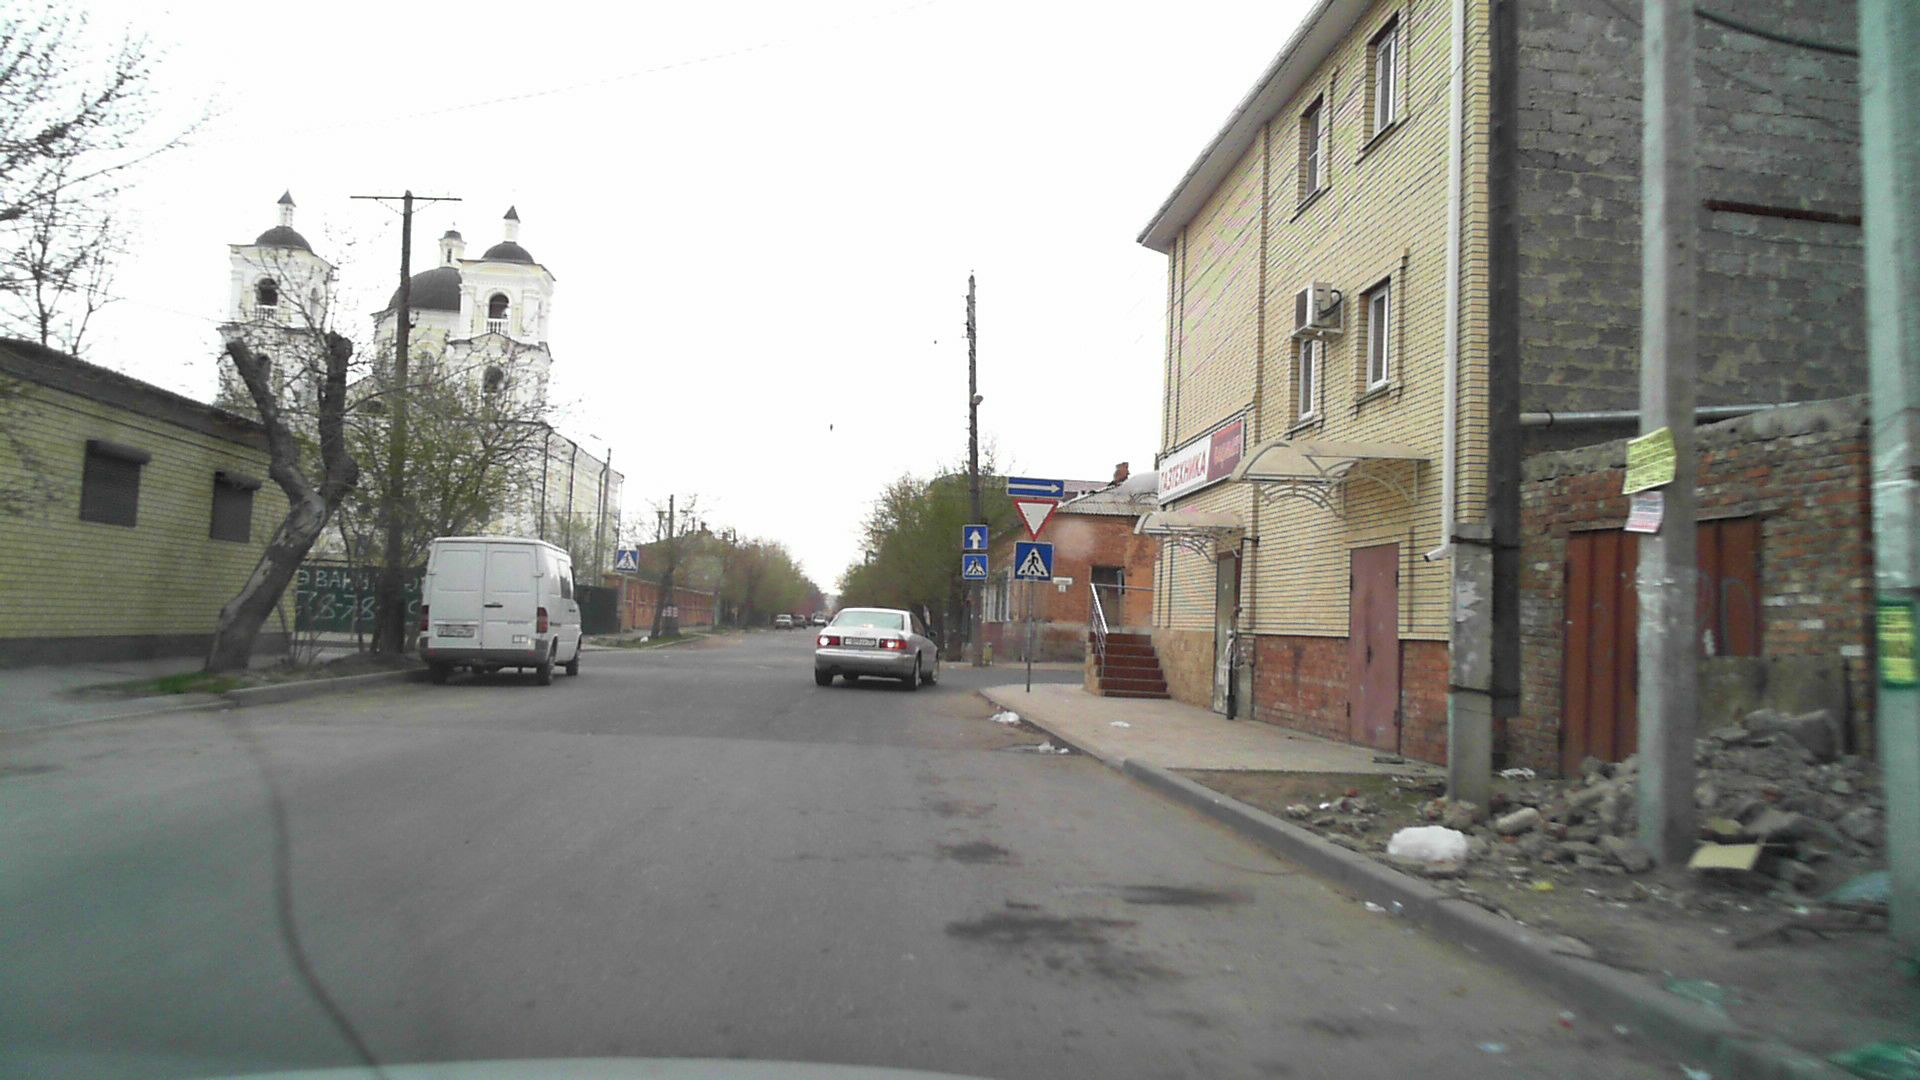One-Way Traffic: (1007, 476, 1064, 498)
Pedestrian Crossing: (1015, 542, 1052, 580)
